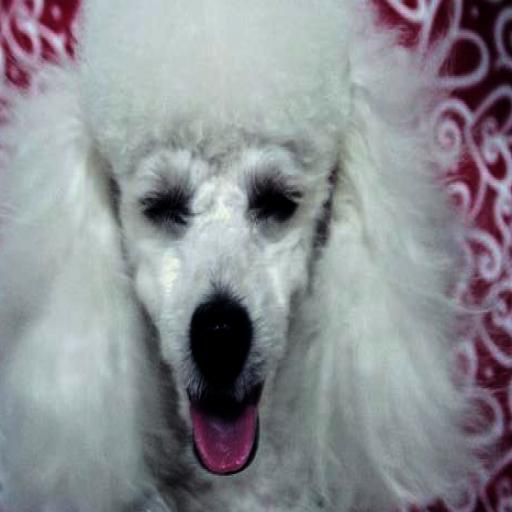dog_face: (95, 118, 323, 485)
